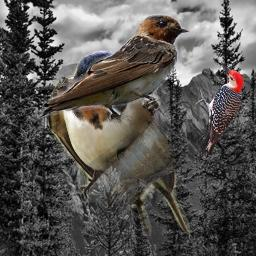Swallow: (48, 50, 190, 236), (35, 12, 190, 124)
Woodpecker: (193, 61, 243, 155)
